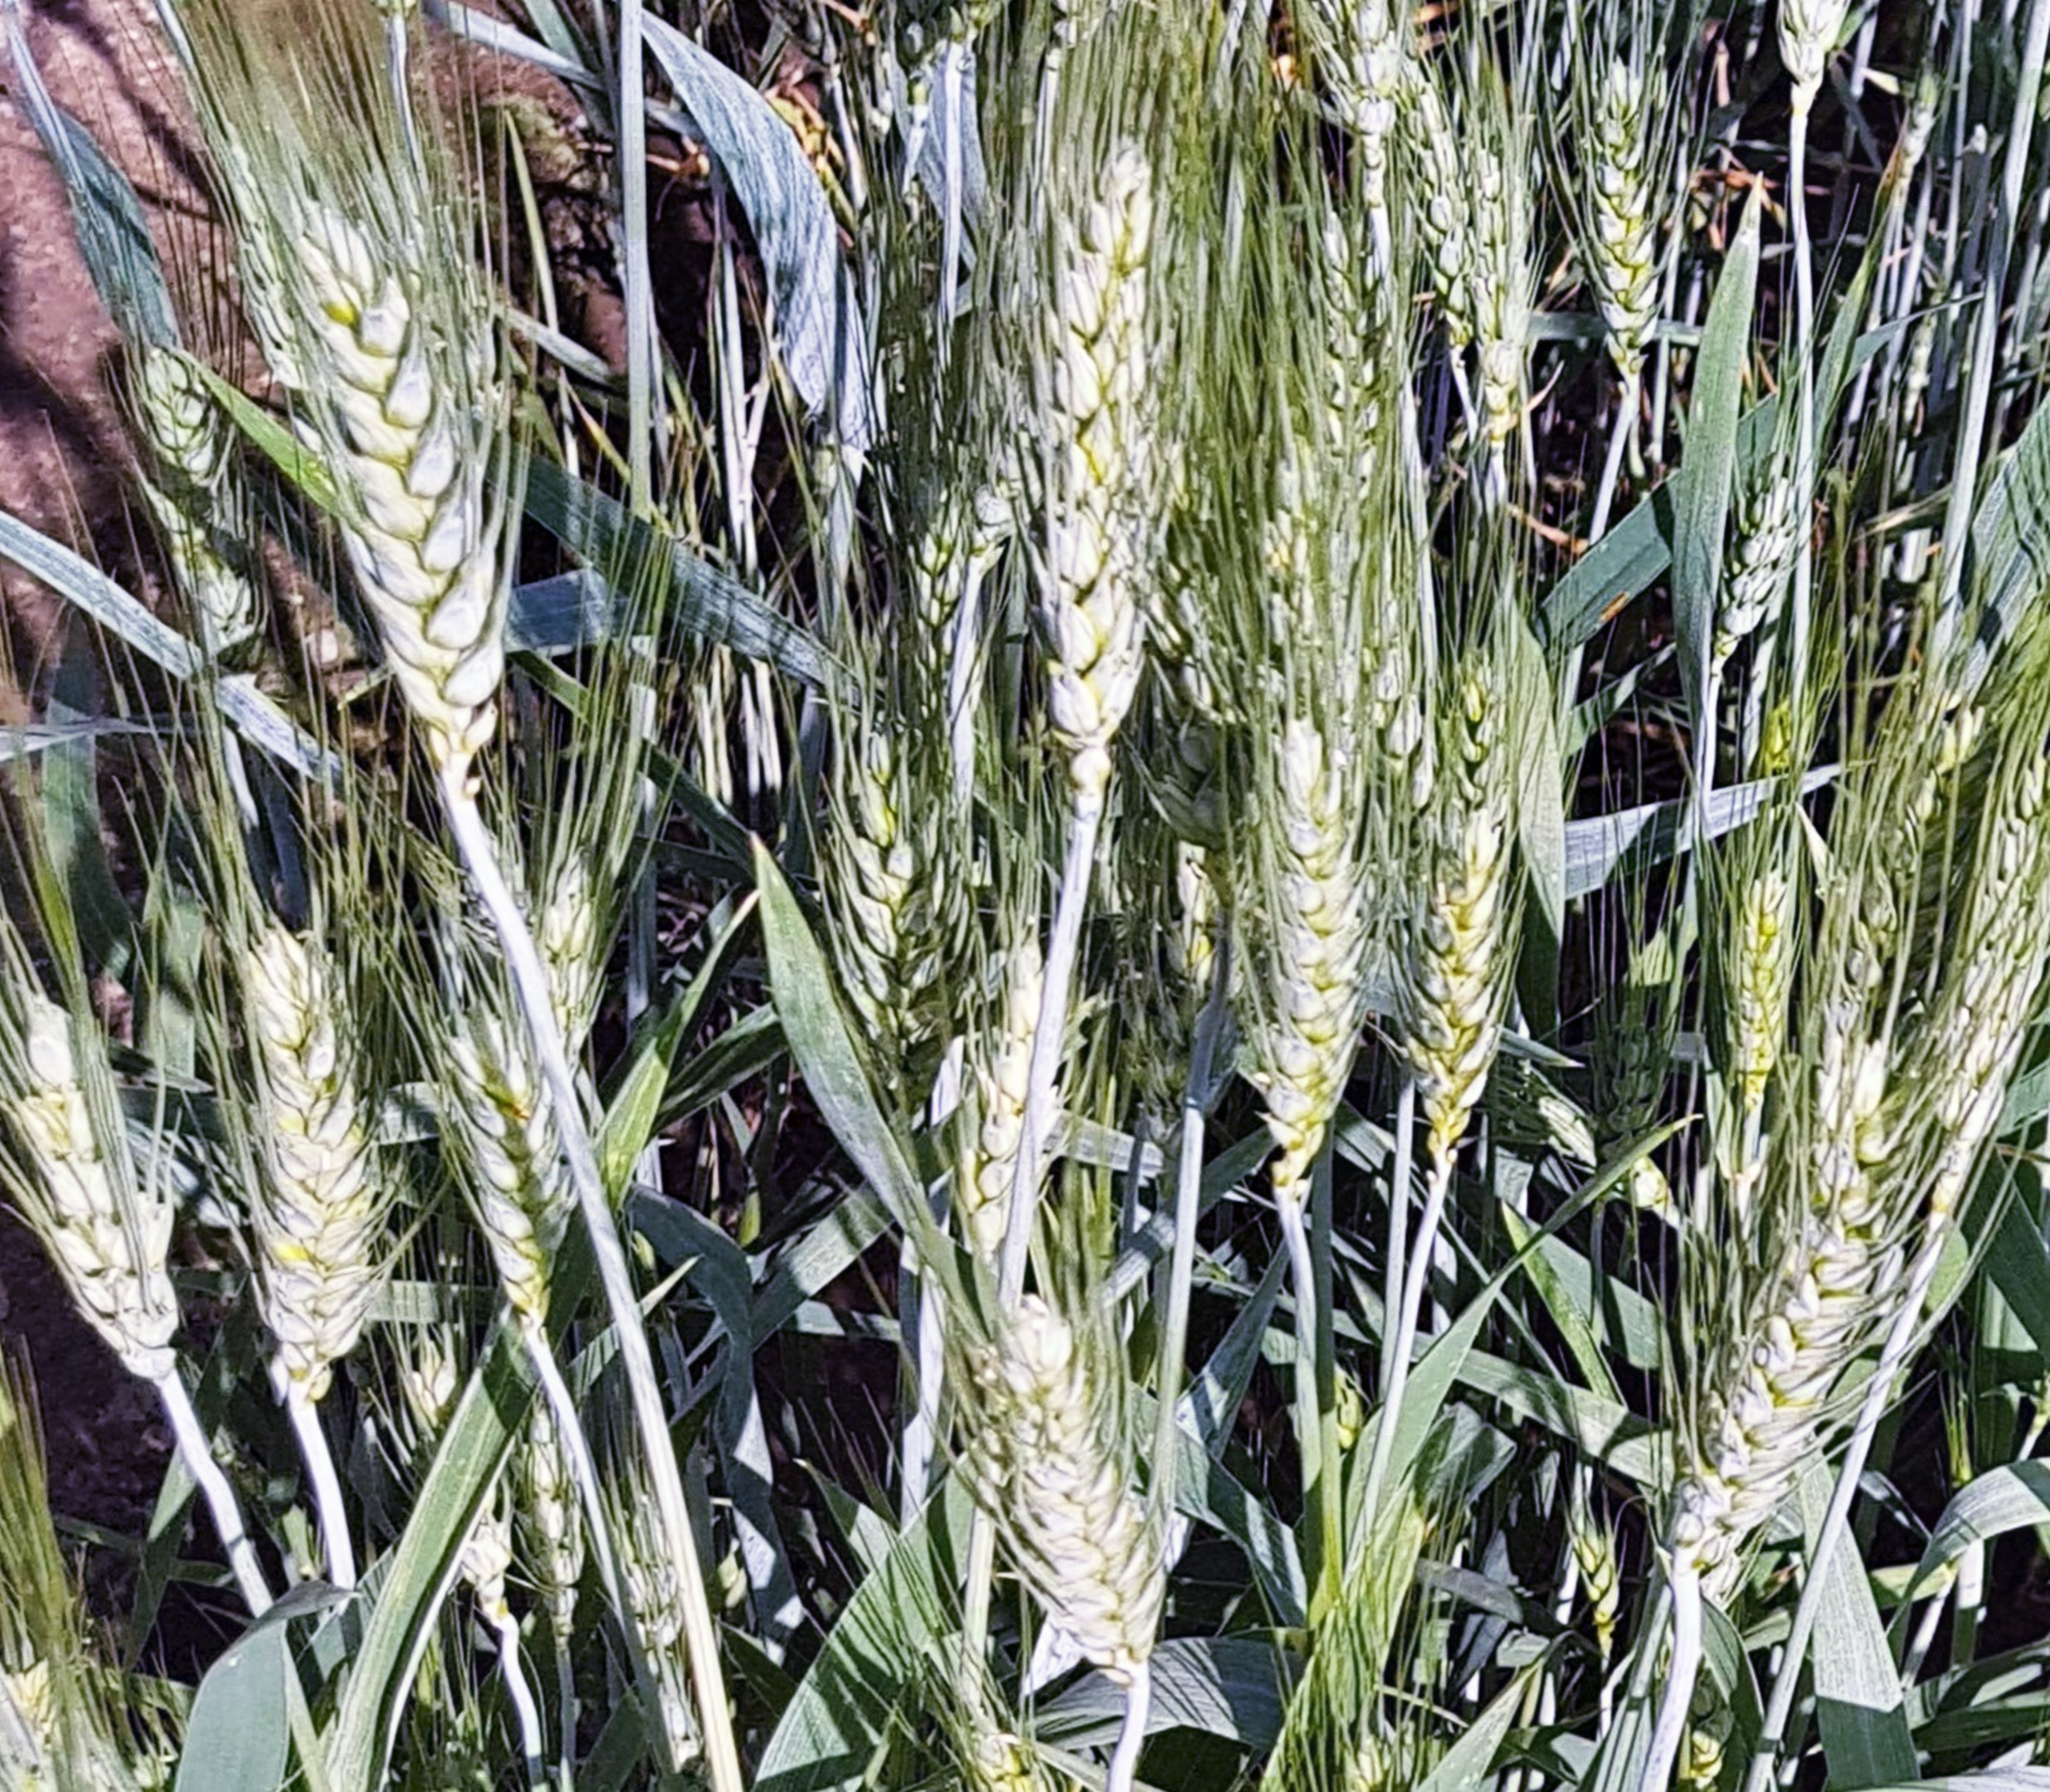Healthy Wheat: (0, 882, 427, 1410), (258, 199, 537, 750), (1232, 715, 1546, 1182), (933, 1281, 1239, 1687), (1632, 1187, 1930, 1592)
